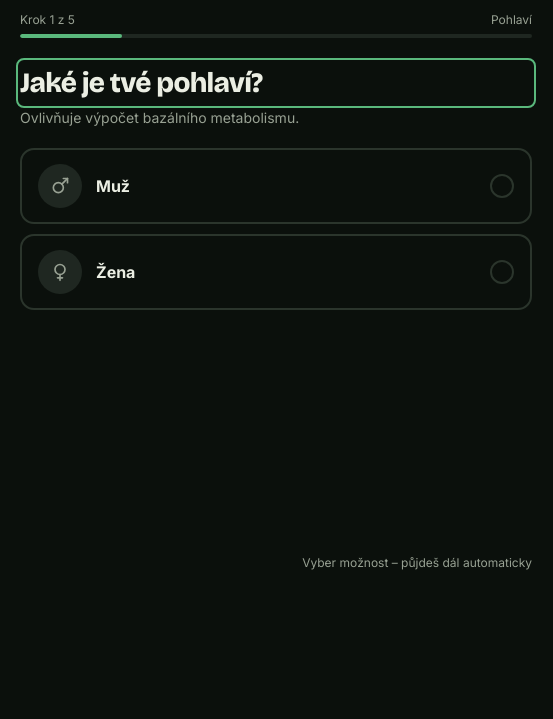
Test case: Cílový průvodce › ruční úprava kalorií přepočítá makra na přesnou energii
Click the radio button labelled "Muž".
click(60, 186)  # box x1=20 y1=148 x2=532 y2=224
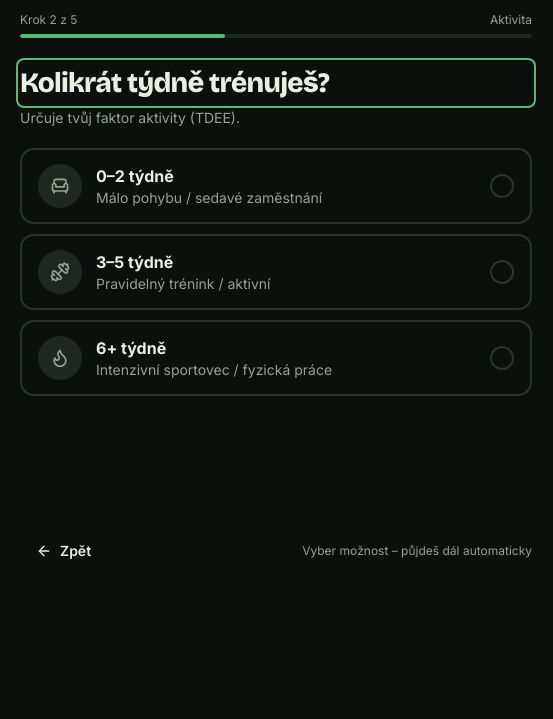
Expected: the text "Krok 2 z 5" is shown, x1=20 y1=12 x2=77 y2=28
Result: the heading "Kolikrát týdně trénuješ?" is shown at x1=20 y1=66 x2=329 y2=100
Click the radio button labelled "0–2 týdně Málo pohybu / sedavé zaměstnání".
click(276, 186)  # box x1=20 y1=148 x2=532 y2=224
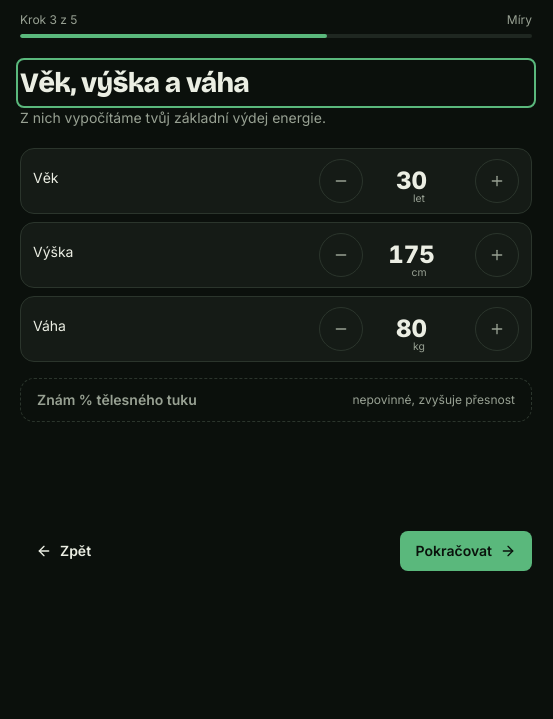
Expected: the text "Krok 3 z 5" is shown, x1=20 y1=12 x2=78 y2=28
Result: the button "Pokračovat" is shown
Click the button "Pokračovat".
click(466, 551)  # box x1=400 y1=531 x2=532 y2=571
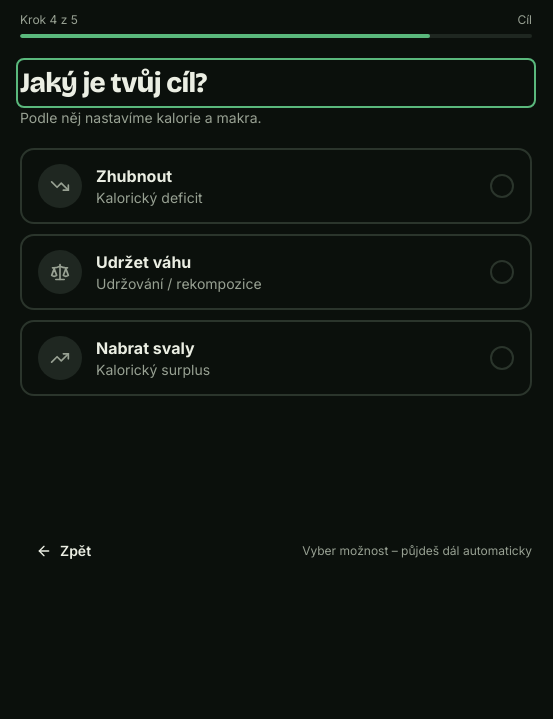
Result: the heading "Jaký je tvůj cíl?" is shown at x1=20 y1=66 x2=206 y2=100
Click the radio button labelled "Udržet váhu Udržování / rekompozice".
click(60, 272)  # box x1=20 y1=234 x2=532 y2=310
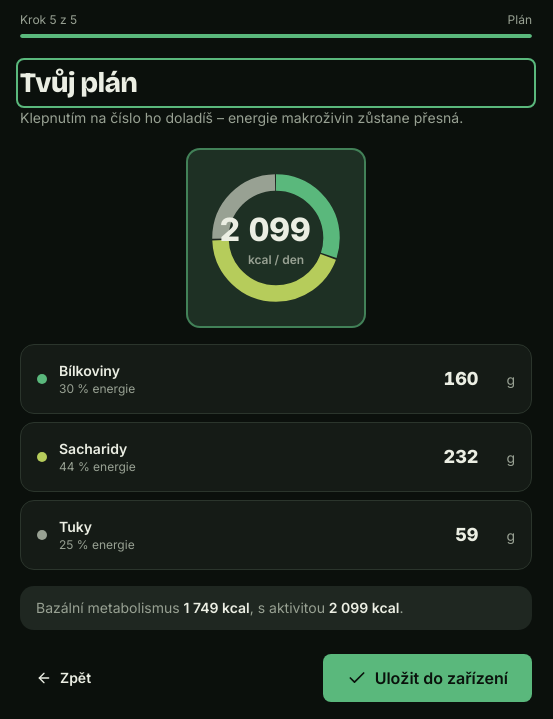
Result: the heading "Tvůj plán" is shown at x1=20 y1=66 x2=137 y2=100
Click the button named "Upravit hodnotu".
click(276, 230)  # box x1=211 y1=208 x2=341 y2=252
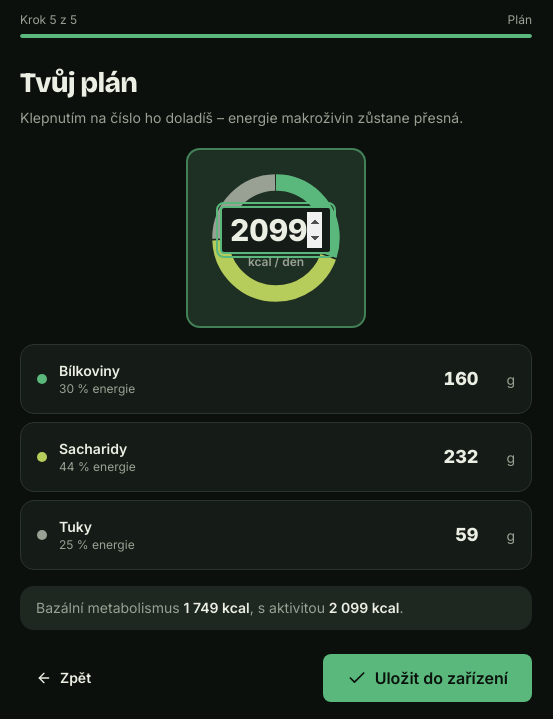
Replace the text in the number field with "3000" at (276, 230), box x1=220 y1=206 x2=332 y2=254
Leave the number field, box x1=220 y1=206 x2=332 y2=254
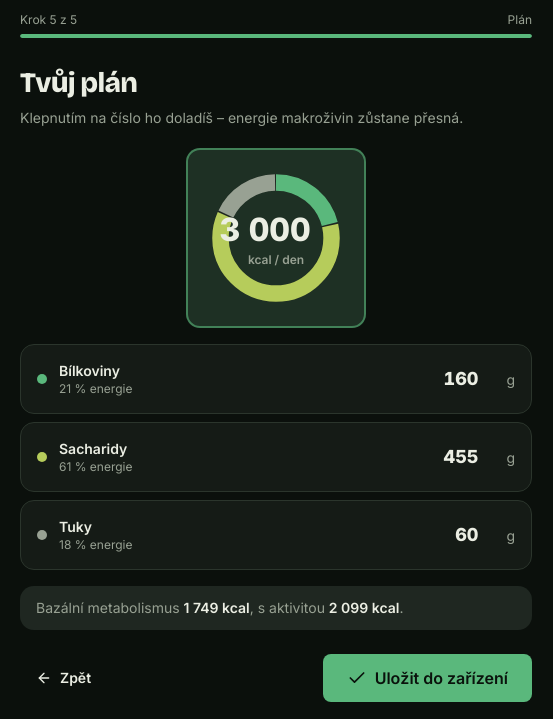
Result: the button named "Upravit hodnotu 3000" is shown at x1=211 y1=208 x2=341 y2=252
